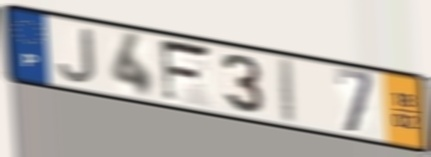3: (220, 53, 267, 115)
4: (108, 29, 157, 100)
7: (333, 64, 375, 138)
F: (157, 37, 215, 106)
I: (278, 55, 300, 128)
J: (55, 26, 98, 86)
